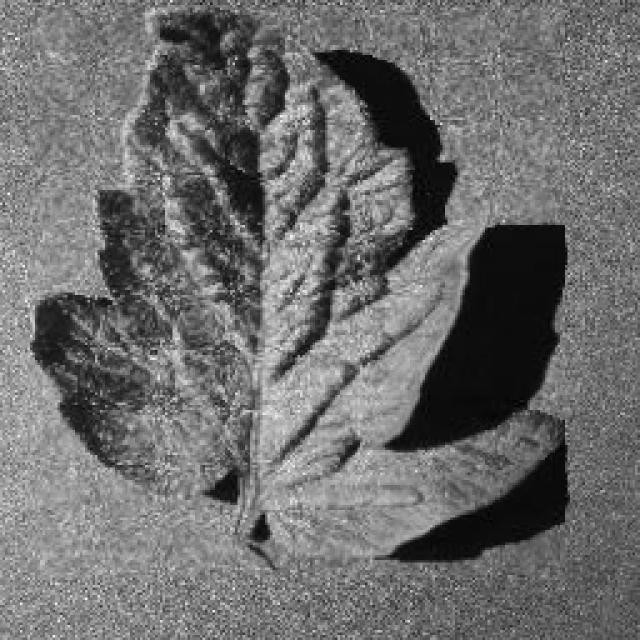Healthy: (27, 5, 565, 577)
